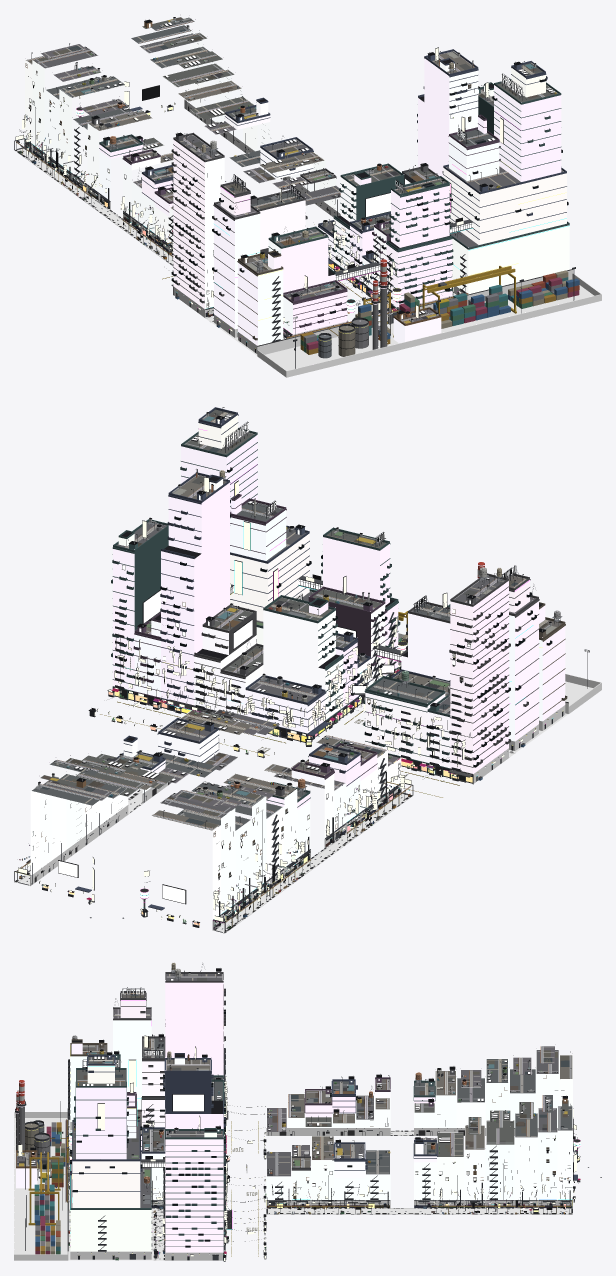
The model's file is world-high-south.glb.
3 views of the same model, one above another, from view 1: azimuth 30°, elevation 25°; view 2: azimuth 150°, elevation 25°; view 3: azimuth 270°, elevation 25° (orthographic). The views are drawn at different scales.
Parts seen in each view (by area): view 1: avenue_s_facade, avenue_s_trim, avenue_s_castconcrete, avenue_s_trim_detail, avenue_s_concrete, avenue_s_metal_detail, avenue_s_asphalt, avenue_s_steel_detail, avenue_s_steel, avenue_s_castconcrete_detail, avenue_s_sign, avenue_s_glow (+8 smaller); view 2: avenue_s_facade, avenue_s_trim, avenue_s_castconcrete, avenue_s_trim_detail, avenue_s_sign, avenue_s_metal_detail, avenue_s_board_frame, avenue_s_concrete, avenue_s_steel_detail, avenue_s_castconcrete_detail, avenue_s_glow, avenue_s_asphalt (+10 smaller); view 3: avenue_s_facade, avenue_s_trim, avenue_s_castconcrete, avenue_s_trim_detail, avenue_s_concrete, avenue_s_asphalt, avenue_s_metal_detail, avenue_s_glow, avenue_s_castconcrete_detail, avenue_s_steel_detail, avenue_s_steel, avenue_s_board_frame (+8 smaller).
Boxes of the visible parts, x1,y1,x2,y2 form: avenue_s_facade: (25, 25, 569, 345); avenue_s_trim: (16, 18, 579, 358); avenue_s_castconcrete: (26, 17, 563, 324); avenue_s_trim_detail: (15, 23, 567, 350); avenue_s_concrete: (24, 100, 601, 377); avenue_s_metal_detail: (16, 19, 575, 348); avenue_s_asphalt: (18, 148, 594, 370); avenue_s_steel_detail: (25, 19, 545, 349); avenue_s_steel: (25, 18, 556, 349); avenue_s_castconcrete_detail: (29, 17, 540, 319); avenue_s_sign: (16, 48, 503, 331); avenue_s_glow: (25, 14, 591, 368); avenue_s_facade: (30, 415, 565, 919); avenue_s_trim: (17, 407, 568, 928); avenue_s_castconcrete: (32, 409, 561, 830); avenue_s_trim_detail: (15, 415, 567, 932); avenue_s_sign: (18, 419, 536, 922); avenue_s_metal_detail: (17, 407, 589, 931); avenue_s_board_frame: (18, 477, 535, 923); avenue_s_concrete: (30, 633, 601, 929); avenue_s_steel_detail: (19, 412, 560, 927); avenue_s_castconcrete_detail: (41, 412, 547, 827); avenue_s_glow: (39, 406, 589, 914); avenue_s_asphalt: (18, 681, 592, 932); avenue_s_facade: (16, 982, 572, 1252); avenue_s_trim: (16, 972, 580, 1260); avenue_s_castconcrete: (16, 974, 572, 1207); avenue_s_trim_detail: (31, 979, 579, 1259); avenue_s_concrete: (14, 1112, 572, 1260); avenue_s_asphalt: (14, 1118, 571, 1260); avenue_s_metal_detail: (15, 965, 601, 1257); avenue_s_glow: (14, 962, 577, 1254); avenue_s_castconcrete_detail: (19, 977, 569, 1175); avenue_s_steel_detail: (17, 968, 569, 1258); avenue_s_steel: (17, 968, 567, 1260); avenue_s_board_frame: (18, 1034, 580, 1257).
Size of the model in its own units: 177 by 110 by 303.
